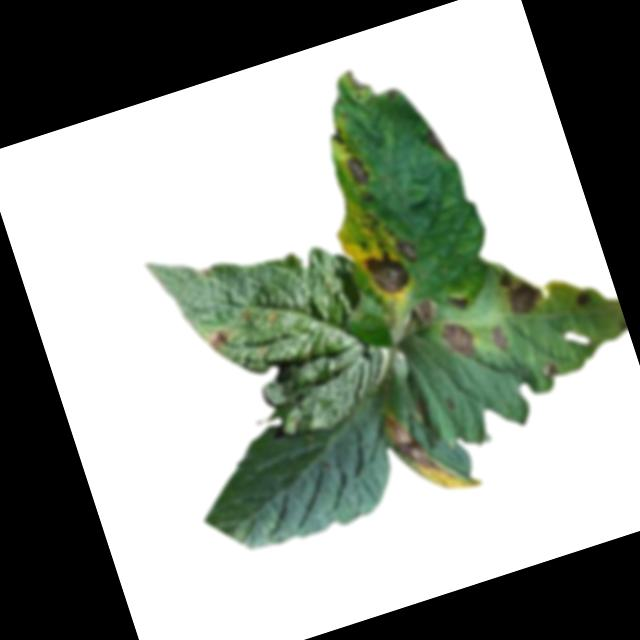Early_blight: (378, 391, 486, 509), (358, 235, 431, 304), (435, 312, 488, 368), (501, 271, 551, 322), (421, 121, 455, 168), (339, 151, 374, 191), (410, 292, 446, 330), (203, 323, 238, 358), (345, 64, 373, 97), (486, 320, 512, 352), (572, 284, 598, 312), (540, 359, 563, 381), (330, 125, 348, 150)
